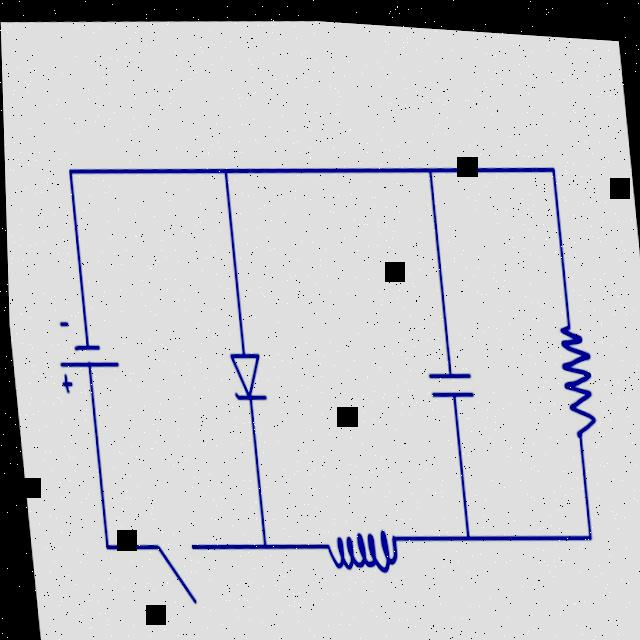capacitor: (411, 342, 482, 417)
diode: (215, 329, 271, 421)
inductor: (318, 505, 401, 589)
resistor: (542, 296, 605, 456)
source: (36, 301, 129, 410)
switch: (137, 517, 224, 609)
